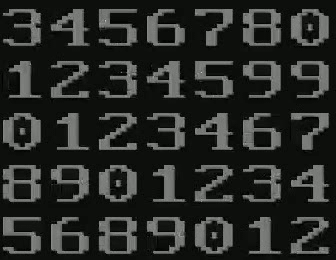fake_zero: (109, 169, 128, 198)
